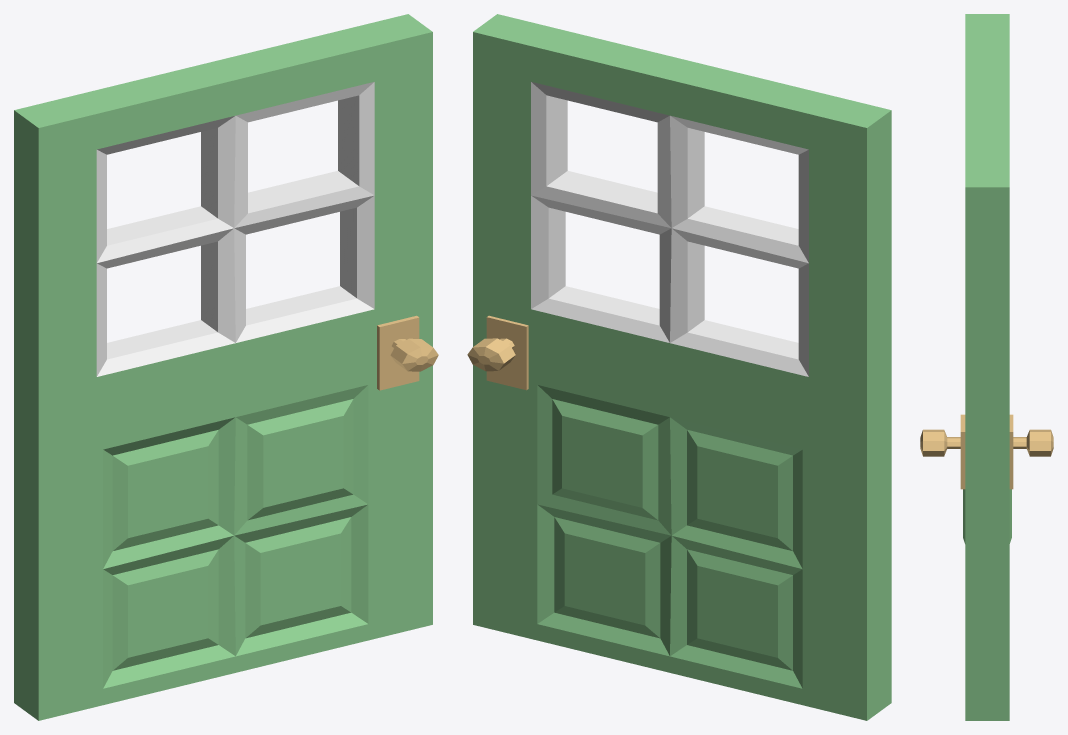
File: door.gltf
3 views of the same model, side by side, from view 1: azimuth 30°, elevation 25°; view 2: azimuth 150°, elevation 25°; view 3: azimuth 270°, elevation 25° (orthographic). The views are drawn at different scales.
Visible parts, largest first — view 1: door_Cube.030; view 2: door_Cube.030; view 3: door_Cube.030.
Boxes of the visible parts, x1,y1,x2,y2 form: door_Cube.030: (14,14,438,720); door_Cube.030: (467,14,891,720); door_Cube.030: (920,14,1053,720).
Bounding box in the file's own units: 1.81 × 2.59 × 0.5886.
